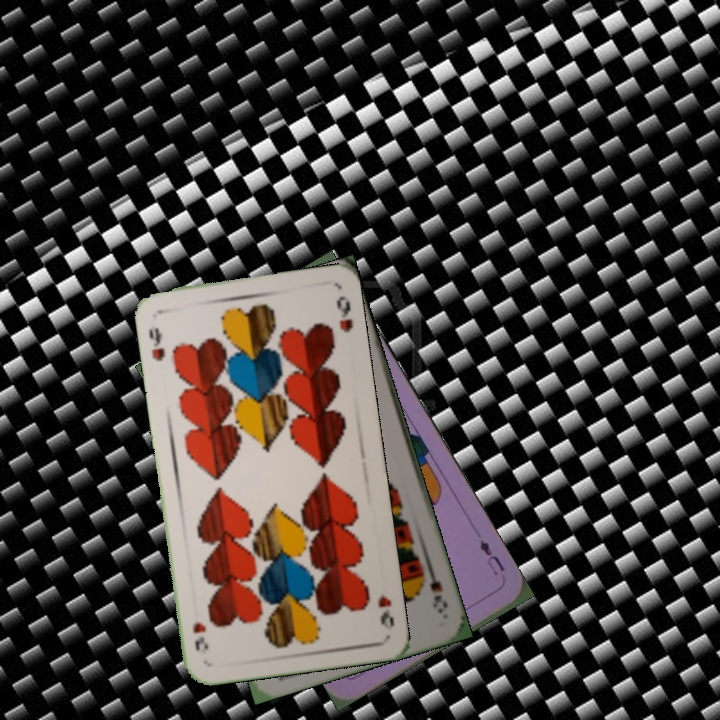EU: (475, 536, 507, 578)
H9: (144, 324, 168, 364), (374, 591, 397, 632)
S9: (423, 560, 450, 616)
